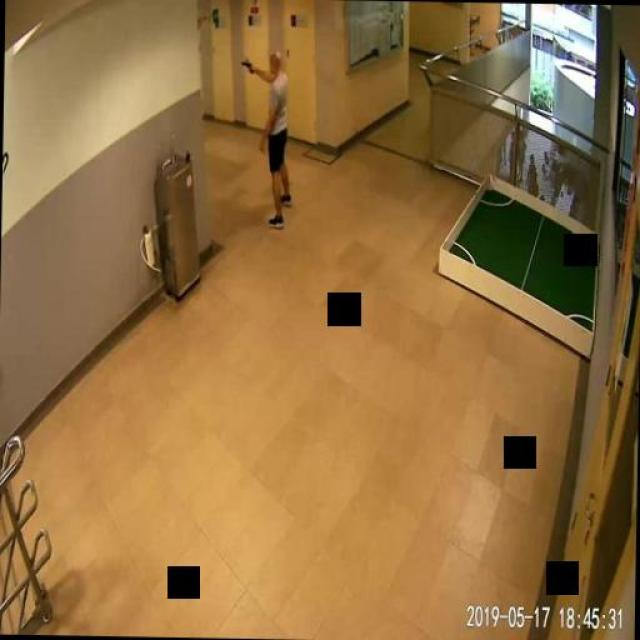gun: (240, 58, 252, 74)
